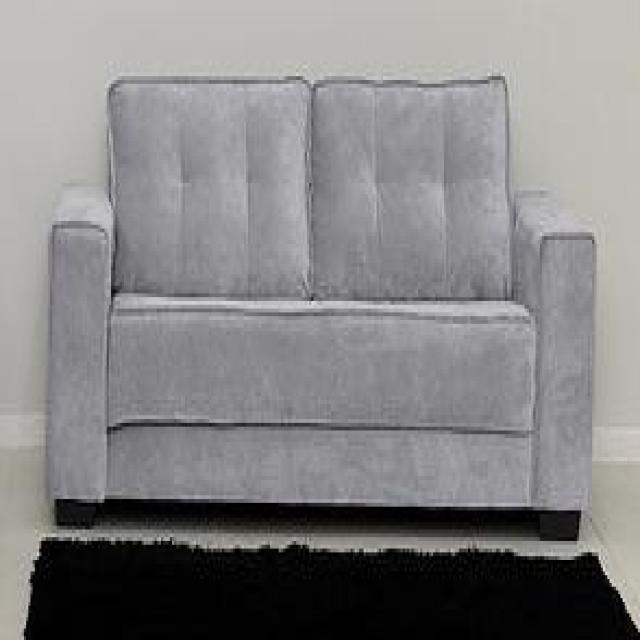sofa: (45, 69, 598, 546)
